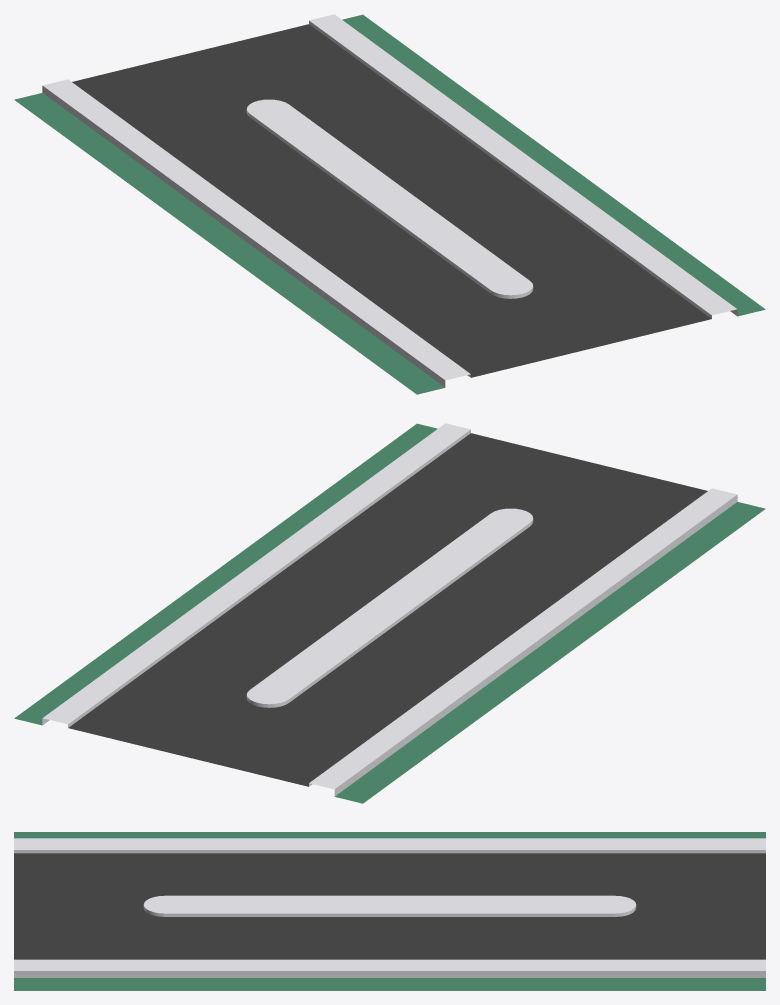
The model's file is roadLong.obj.
The picture shows the model from 3 angles, top to bottom: view 1: azimuth 30°, elevation 25°; view 2: azimuth 150°, elevation 25°; view 3: azimuth 270°, elevation 25°; orthographic projection. The views are drawn at different scales.
Visible parts, largest first — view 1: roadStraightLongMid; view 2: roadStraightLongMid; view 3: roadStraightLongMid.
Boxes of the visible parts, x1,y1,x2,y2 form: roadStraightLongMid: (14, 14, 765, 394); roadStraightLongMid: (14, 423, 765, 803); roadStraightLongMid: (14, 832, 765, 990).
Size of the model in its own units: 1 by 0.02 by 2.
